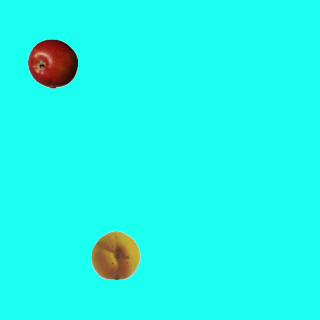Apple Braeburn: (27, 38, 77, 88)
Peach 2: (90, 229, 140, 279)
